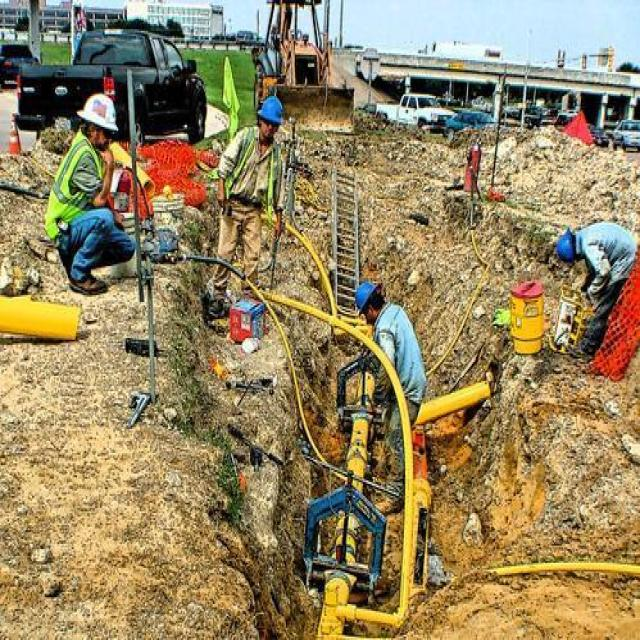Vest: (40, 132, 105, 242), (222, 127, 282, 220)
